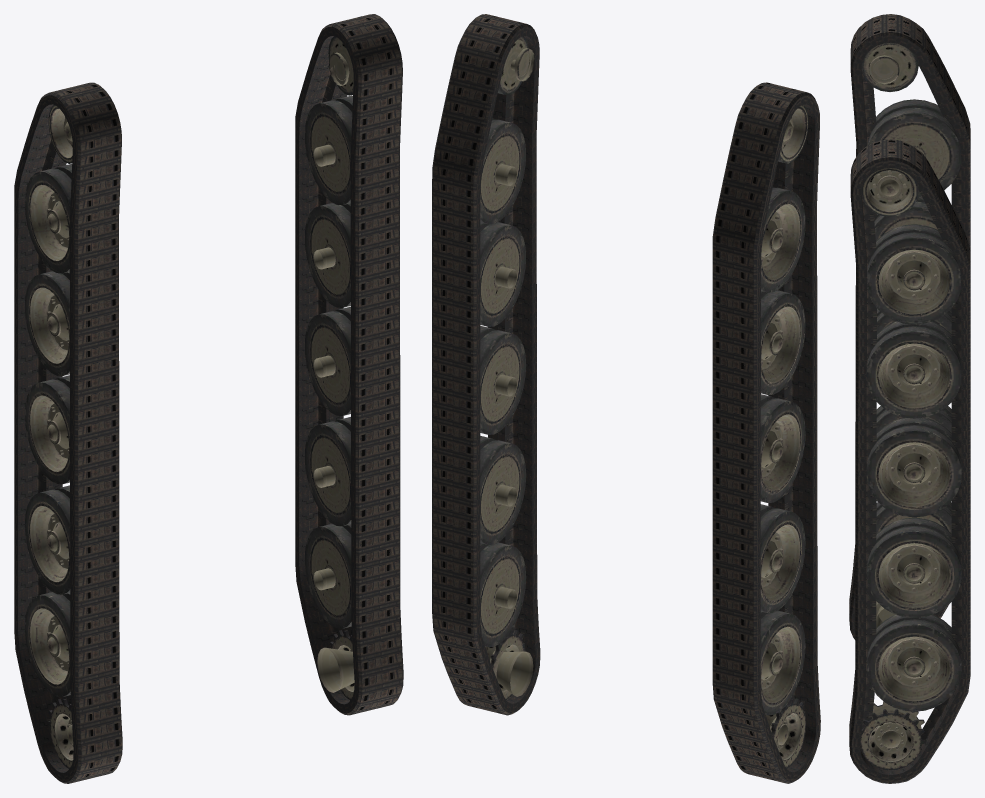
The model's file is Chassis.glb.
3 renders of one model, left to right at view 1: azimuth 30°, elevation 25°; view 2: azimuth 150°, elevation 25°; view 3: azimuth 270°, elevation 25°, orthographic. The views are drawn at different scales.
Parts seen in each view (by area): view 1: set_0_group_0, set_1_group_0, set_3_group_0, set_2_group_0; view 2: set_0_group_0, set_1_group_0, set_3_group_0, set_2_group_0; view 3: set_3_group_0, set_1_group_0, set_2_group_0, set_0_group_0.
Part boxes in pixels (x1,y1,x2,y2): set_0_group_0: (14,82,122,783); set_1_group_0: (295,14,403,715); set_3_group_0: (305,36,354,700); set_2_group_0: (25,105,73,768); set_0_group_0: (712,82,820,783); set_1_group_0: (432,14,540,715); set_3_group_0: (480,36,534,699); set_2_group_0: (760,104,808,768); set_3_group_0: (860,168,961,770); set_1_group_0: (849,139,970,783); set_2_group_0: (861,42,961,627); set_0_group_0: (849,14,970,639).
Size of the model in its own units: 2.89 by 5.82 by 1.02.
Materials: 4 (4 with a texture image).
